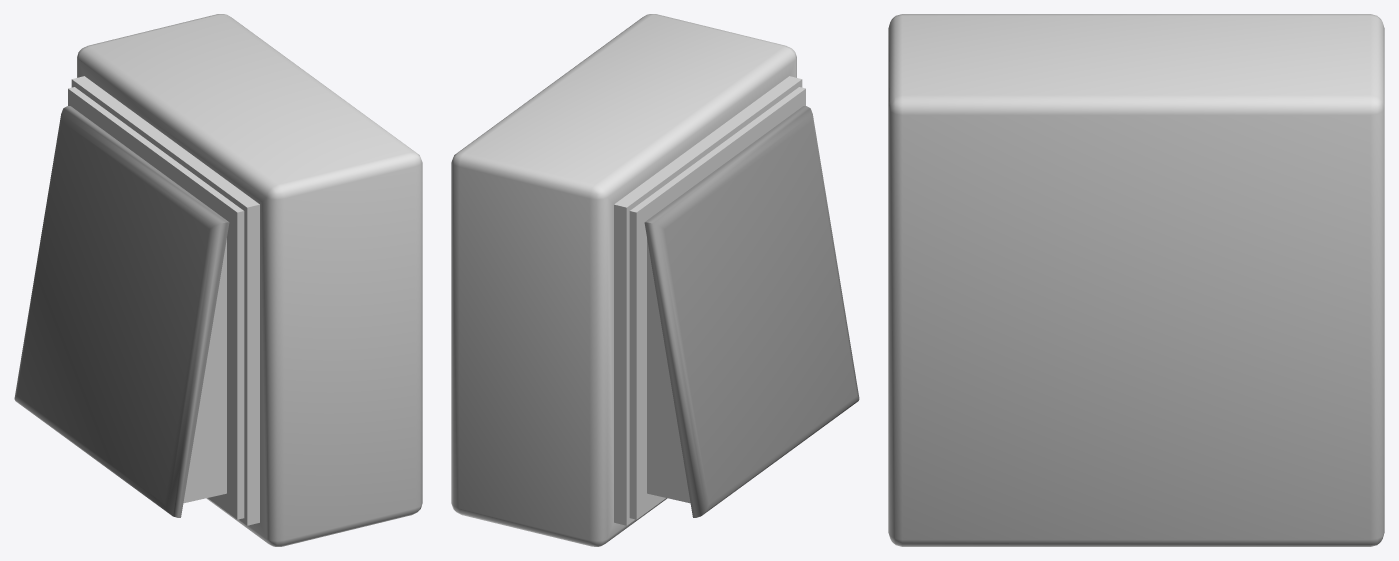
File: Switch.fbx
3 renders of one model, left to right at view 1: azimuth 30°, elevation 25°; view 2: azimuth 150°, elevation 25°; view 3: azimuth 270°, elevation 25°, orthographic. The views are drawn at different scales.
Parts seen in each view (by area): view 1: Switch; view 2: Switch; view 3: Switch.
Part boxes in pixels (bbox=[...]): Switch: bbox=[14, 14, 422, 546]; Switch: bbox=[451, 14, 859, 546]; Switch: bbox=[888, 14, 1384, 546].
Size of the model in its own units: 0.0853 by 0.1248 by 0.1248.
